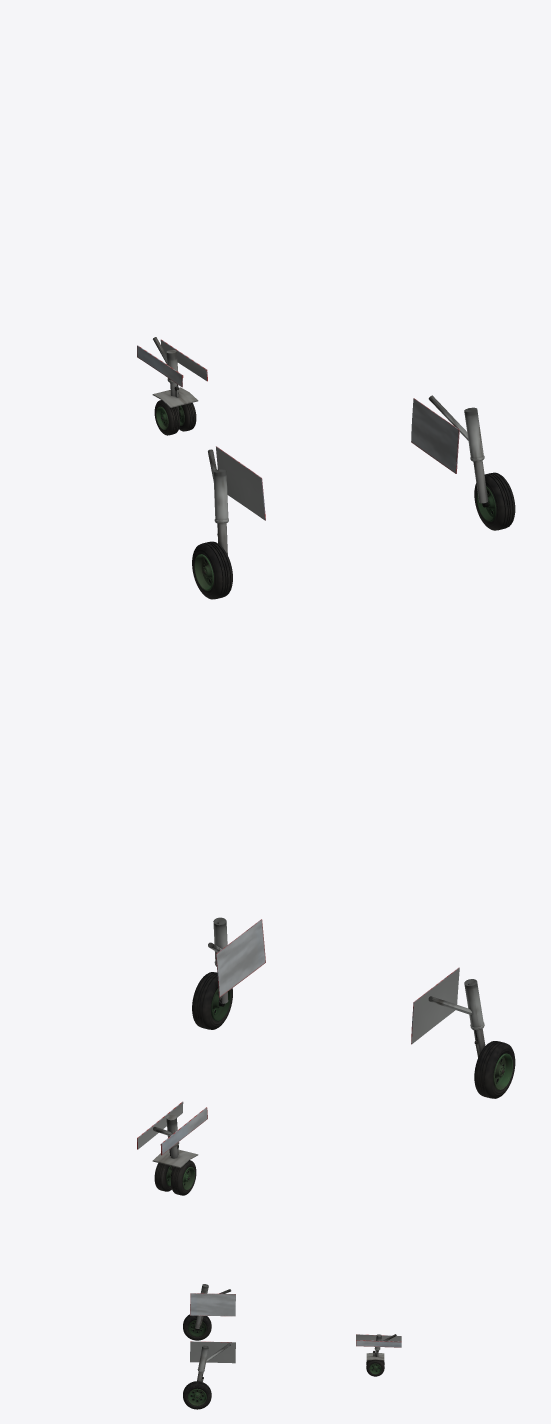
Rendered from e_su57_gear.glb.
3 renders of one model, top to bottom at view 1: azimuth 30°, elevation 25°; view 2: azimuth 150°, elevation 25°; view 3: azimuth 270°, elevation 25°, orthographic. The views are drawn at different scales.
Visible parts, largest first — view 1: gear_m_r, gear_m_l, door_m_r_g, gear_n, door_m_l_g; view 2: gear_m_l, door_m_r_g, gear_m_r, gear_n, door_m_l_g; view 3: door_m_l_g, gear_m_r, door_m_r_g, gear_m_l, gear_n, door_n_r_g, door_n_l_g.
Part boxes in pixels (x1,y1,x2,y2): gear_m_r: (428,395,515,530); gear_m_l: (192,449,232,599); door_m_r_g: (411,398,459,473); gear_n: (152,337,198,435); door_m_l_g: (216,446,265,520); gear_m_l: (428,979,515,1098); door_m_r_g: (215,919,265,997); gear_m_r: (192,917,232,1029); gear_n: (152,1115,198,1195); door_m_l_g: (411,967,459,1044); door_m_l_g: (190,1293,235,1316); gear_m_r: (183,1343,230,1409); door_m_r_g: (190,1341,235,1363); gear_m_l: (183,1284,231,1340); gear_n: (366,1334,396,1376); door_n_r_g: (356,1340,401,1347); door_n_l_g: (356,1334,401,1341).
Size of the model in its own units: 6.28 by 5.97 by 18.93.
Materials: 1 (1 with a texture image).
